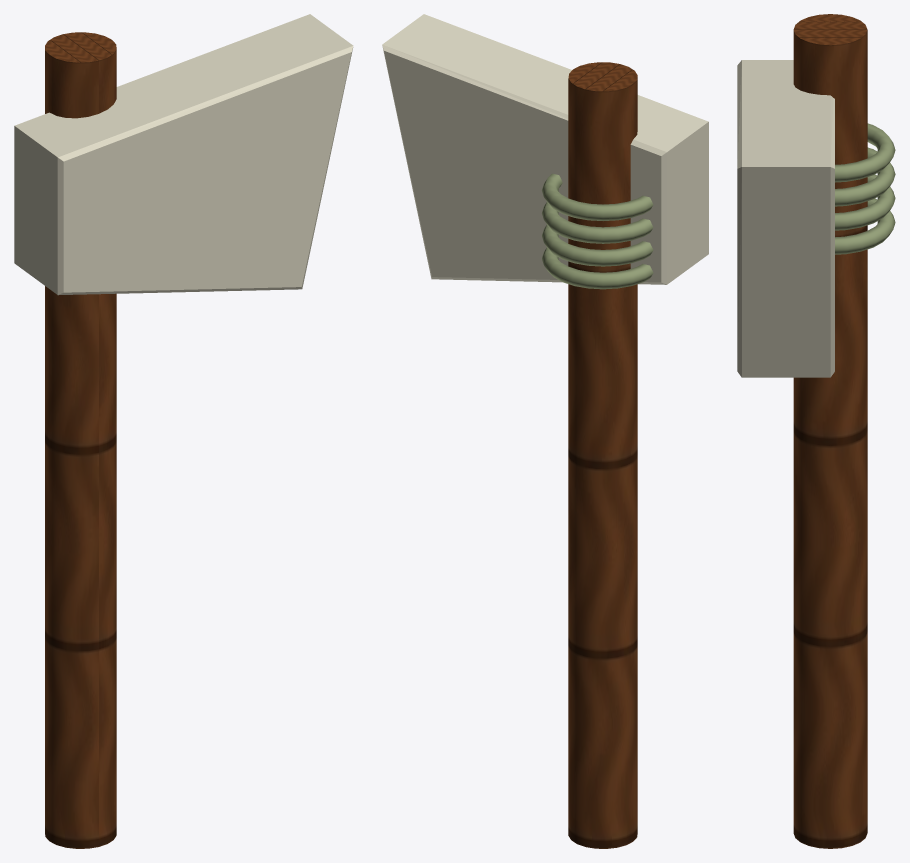
Rendered from primitive-crafting-workshop-hafted-stone-axe-861169c1__21534.glb.
3 renders of one model, left to right at view 1: azimuth 30°, elevation 25°; view 2: azimuth 150°, elevation 25°; view 3: azimuth 270°, elevation 25°, orthographic. The views are drawn at different scales.
Parts seen in each view (by area): view 1: hafted-stone-axe; view 2: hafted-stone-axe; view 3: hafted-stone-axe.
Part boxes in pixels (x1,y1,x2,y2): hafted-stone-axe: (14, 14, 353, 848); hafted-stone-axe: (382, 14, 708, 848); hafted-stone-axe: (737, 14, 895, 848).
Bounding box in the file's own units: 0.2361 × 0.6 × 0.107.
3 materials, 1 textured.
